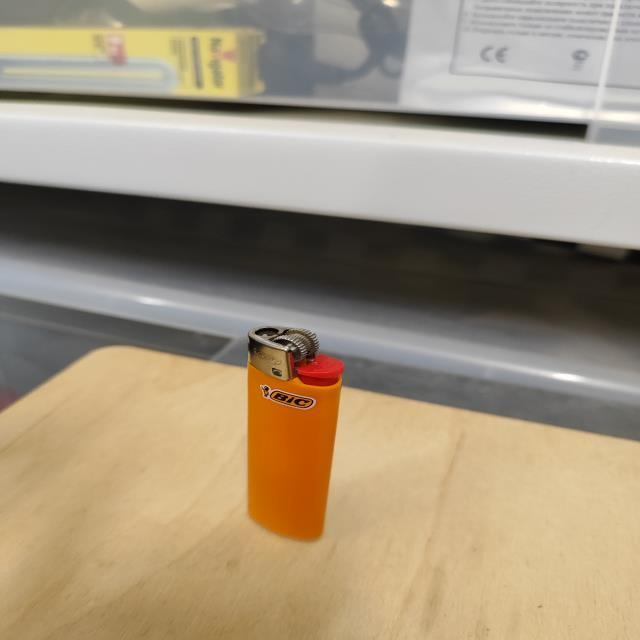lighter: (248, 326, 342, 540)
